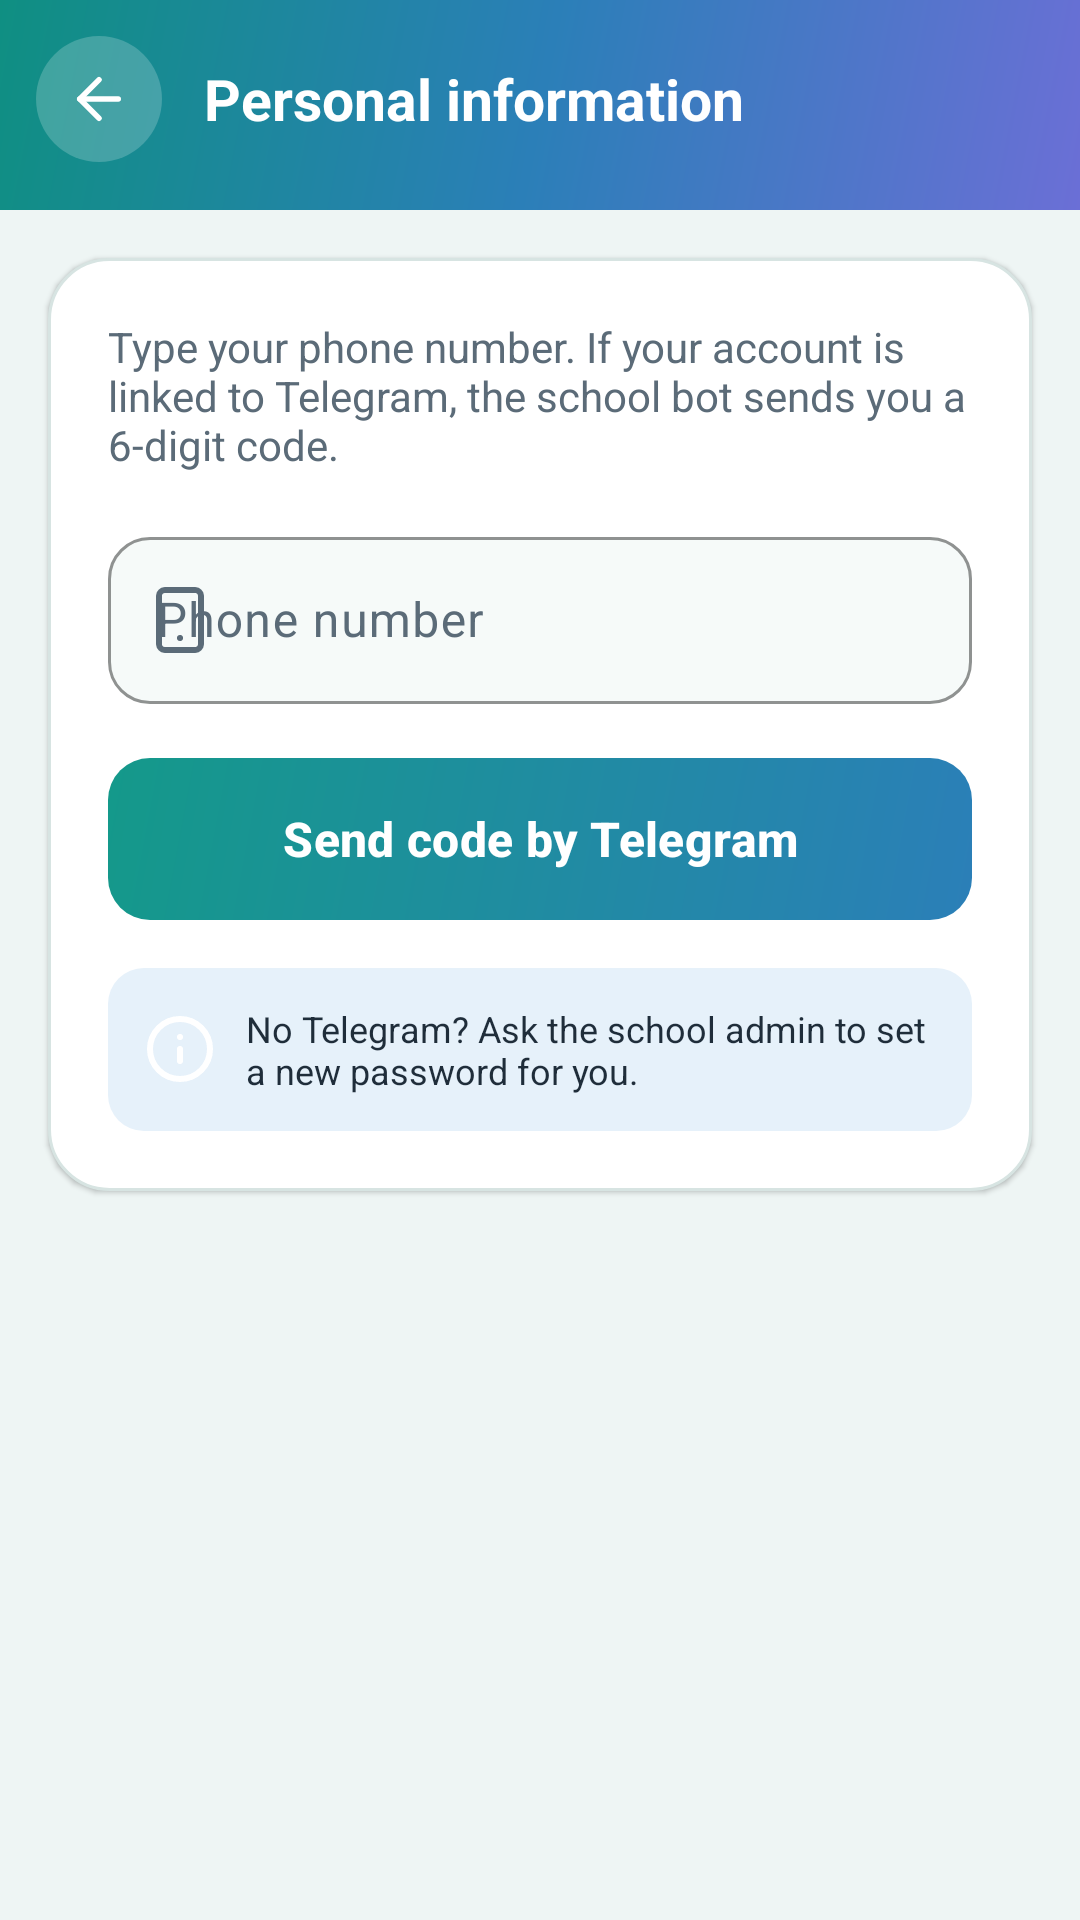

Screen size 1080w x 1920h. Icon name, then its center in pixels as (x,y):
back: (99,99)
